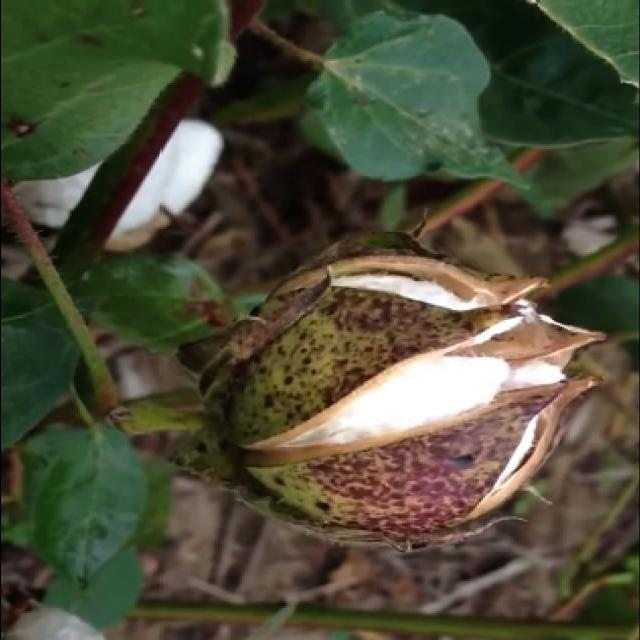Split Cotton Boll: (191, 249, 607, 551)
